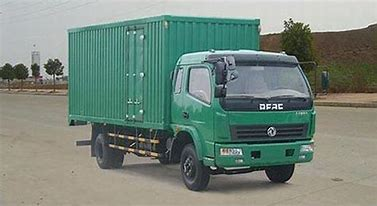smalltruck: (57, 11, 330, 192)
